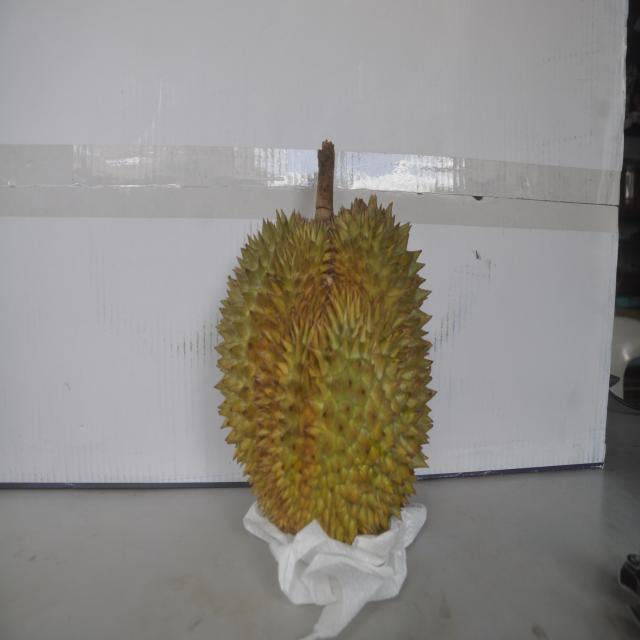mature: (214, 160, 431, 542)
